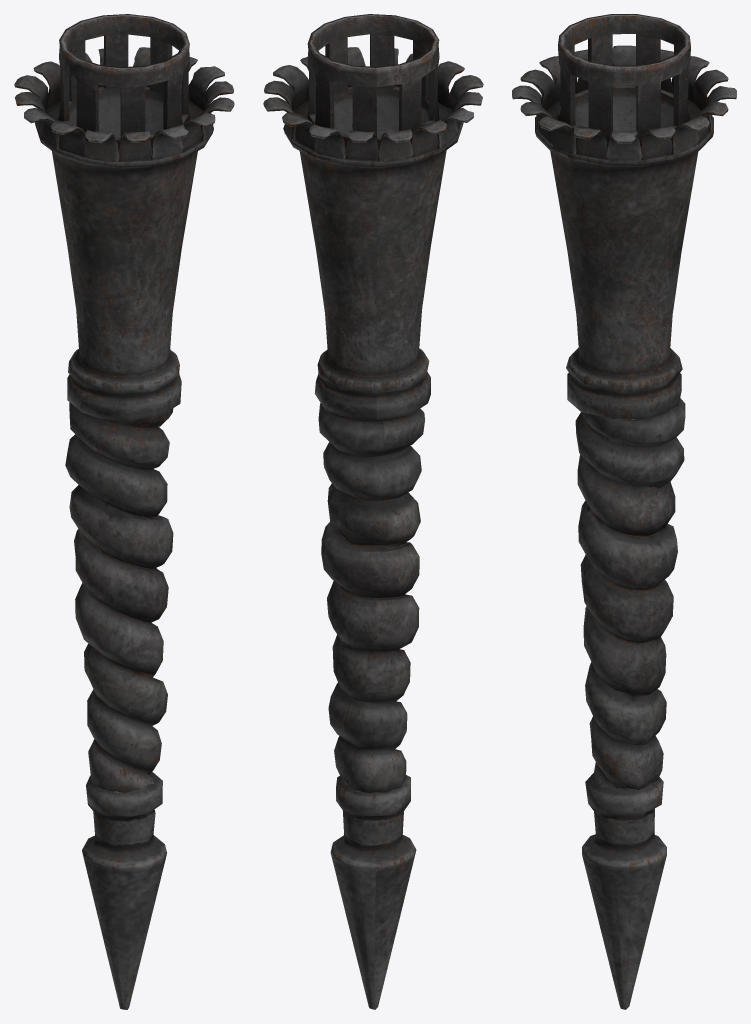
Rendered from SM_Torch_01_01.fbx.
3 renders of one model, left to right at view 1: azimuth 30°, elevation 25°; view 2: azimuth 150°, elevation 25°; view 3: azimuth 270°, elevation 25°, orthographic.
Visible parts, largest first — view 1: sm_Torch_01_01_LOD0; view 2: sm_Torch_01_01_LOD0; view 3: sm_Torch_01_01_LOD0.
Part boxes in pixels (x1,y1,x2,y2): sm_Torch_01_01_LOD0: (14,14,234,1009); sm_Torch_01_01_LOD0: (263,14,483,1009); sm_Torch_01_01_LOD0: (512,14,736,1009).
Bounding box in the file's own units: 21.08 × 21.08 × 100.
